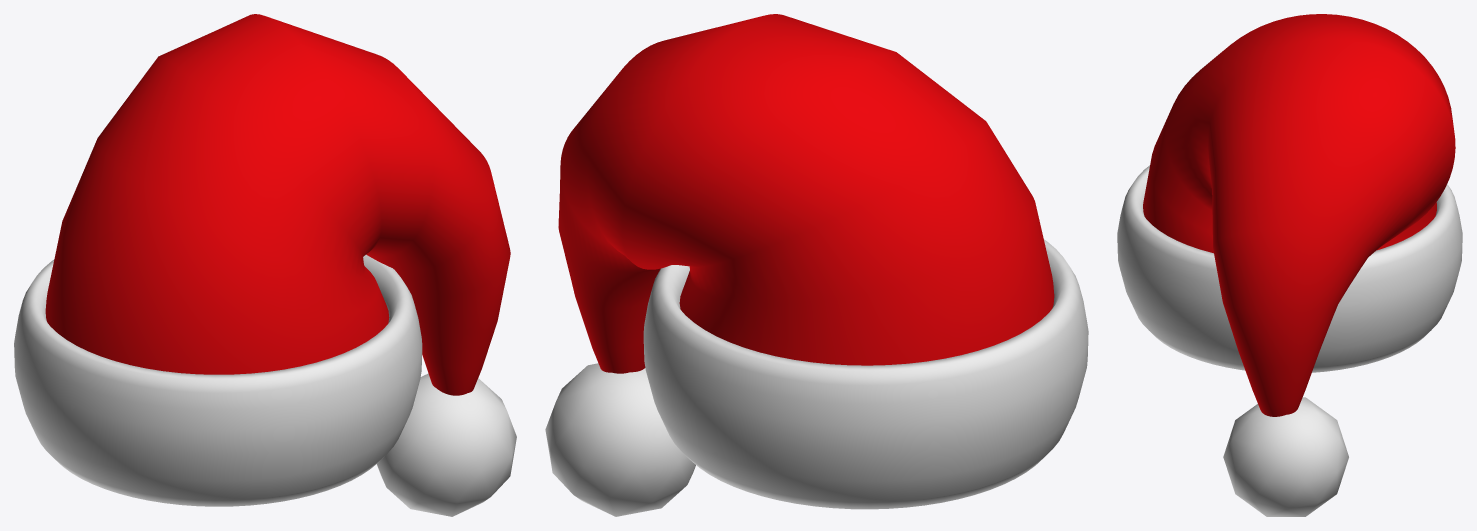
The model's file is snowHAt.fbx.
3 renders of one model, left to right at view 1: azimuth 30°, elevation 25°; view 2: azimuth 150°, elevation 25°; view 3: azimuth 270°, elevation 25°, orthographic. The views are drawn at different scales.
Parts seen in each view (by area): view 1: Circle, Circle.001, Icosphere; view 2: Circle, Circle.001, Icosphere; view 3: Circle, Circle.001, Icosphere.
Part boxes in pixels (x1,y1,x2,y2): Circle: [45, 14, 510, 395]; Circle.001: [14, 254, 422, 506]; Icosphere: [376, 373, 516, 516]; Circle: [558, 14, 1054, 373]; Circle.001: [643, 239, 1088, 509]; Icosphere: [545, 363, 695, 516]; Circle: [1143, 14, 1455, 416]; Circle.001: [1117, 165, 1462, 372]; Icosphere: [1223, 397, 1348, 516].
Size of the model in its own units: 307 by 315 by 235.
